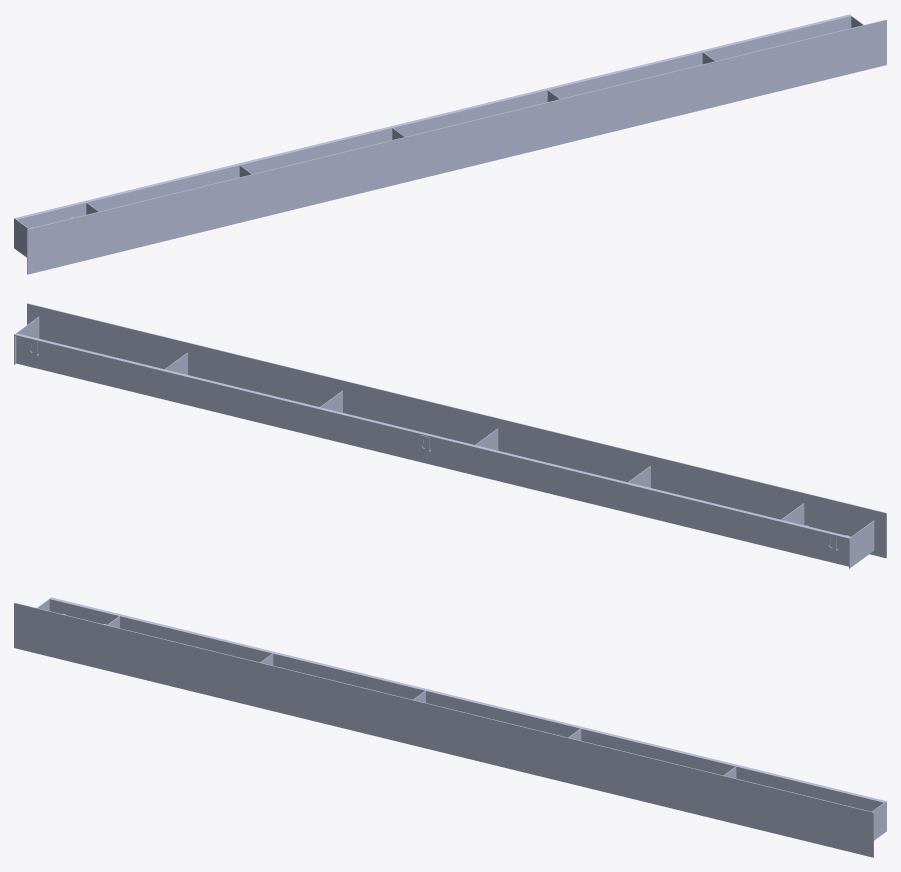
The model's file is skyline-patron.35e0e94ee6.glb.
The picture shows the model from 3 angles, top to bottom: view 1: azimuth 30°, elevation 25°; view 2: azimuth 150°, elevation 25°; view 3: azimuth 330°, elevation 25°; orthographic projection.
Parts seen in each view (by area): view 1: NAUO1; view 2: NAUO1; view 3: NAUO1.
Part boxes in pixels (x1,y1,x2,y2): NAUO1: (14, 14, 886, 274); NAUO1: (14, 303, 886, 568); NAUO1: (14, 597, 886, 857).
Size of the model in its own units: 1.8 by 0.0901 by 0.0929.
